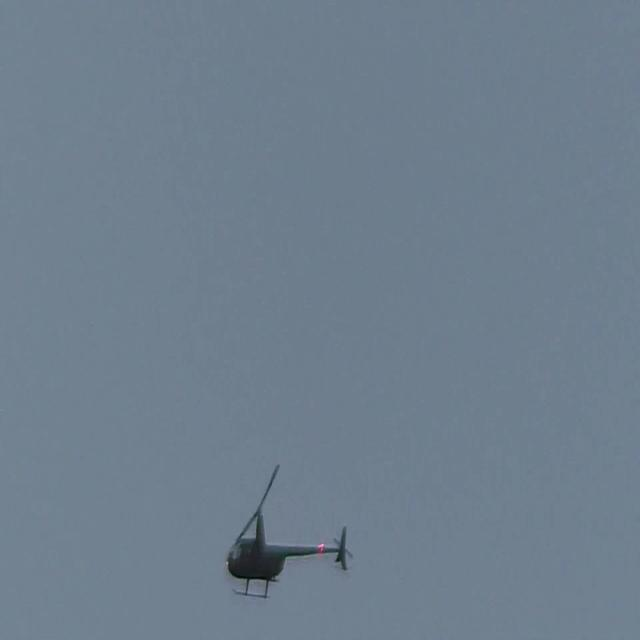CIV_HELO: (227, 508, 348, 602)
